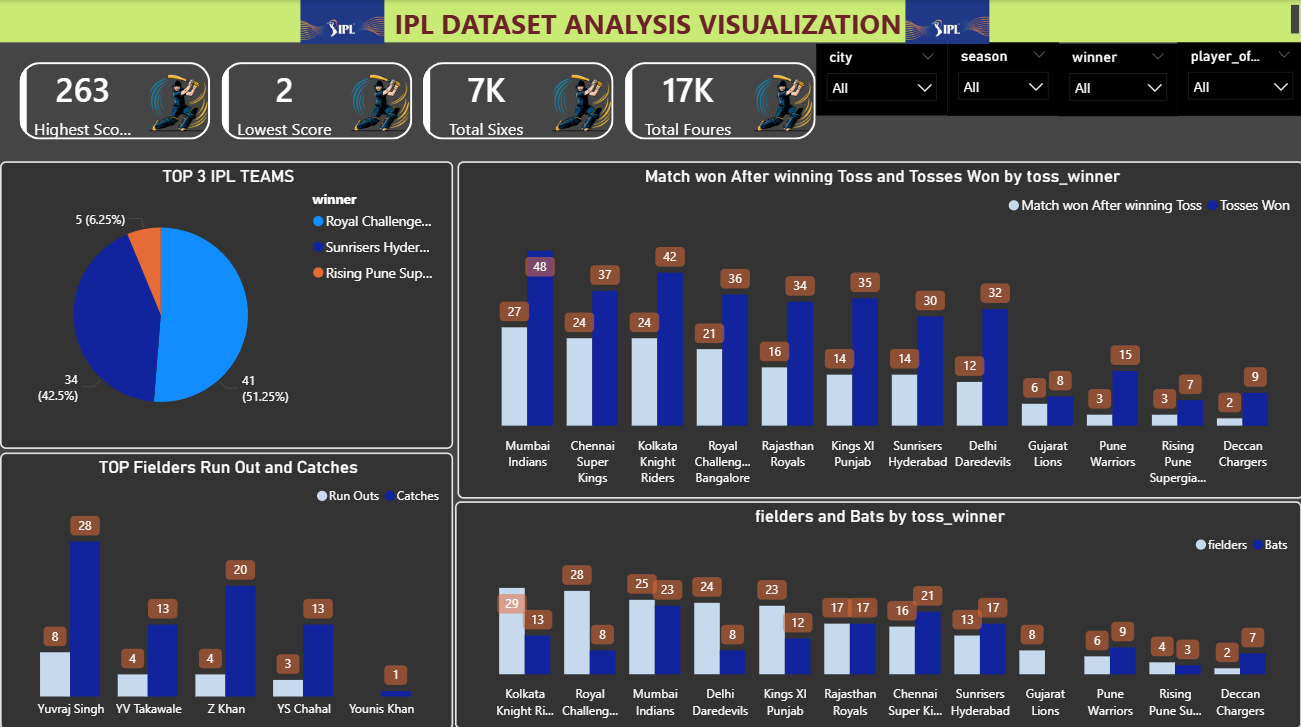

This screenshot's page, from the dashboard's own definition file:
{"tool":"powerbi","page":{"name":"Dashboard 1","canvas":[1280,720],"ordinal":0},"visuals":[{"type":"textbox","box":[0,0,1280,41.2],"z":0},{"type":"cardVisual","fields":{"Data":["deliveries csv.Highest Score","deliveries csv.Lowest Team Score","deliveries csv.Total Sixes","deliveries csv.Total Foures"]},"box":[2.5,43.8,818.8,110],"z":1000},{"type":"clusteredColumnChart","title":"TOP Fielders Run Out and Catches","fields":{"Y":["deliveries csv.Run Outs","deliveries csv.Catches"],"Category":["deliveries csv.fielder"]},"box":[0,443.8,445,273.8],"z":2000},{"type":"clusteredColumnChart","fields":{"Y":["deliveries csv.Won Match After Toss","deliveries csv.tosses won"],"Category":["matches  csv.toss_winner"]},"box":[448.8,158.8,831.2,331.2],"z":3000},{"type":"pieChart","title":"TOP 3 IPL TEAMS","fields":{"Category":["matches  csv.winner"],"Y":["CountNonNull(matches  csv.winner)"]},"box":[0,158.8,445,282.5],"z":4000},{"type":"clusteredColumnChart","fields":{"Category":["matches  csv.toss_winner"],"Y":["matches  csv.fielders","matches  csv.Bats"]},"box":[446.2,492.5,831.2,225],"z":5000},{"type":"slicer","fields":{"Values":["matches  csv.city"]},"box":[801.2,42.5,128.8,70],"z":6000},{"type":"slicer","fields":{"Values":["matches  csv.season"]},"box":[930.1,41.7,109.2,72.4],"z":7000},{"type":"slicer","fields":{"Values":["matches  csv.winner"]},"box":[1039.3,42.9,116.6,71.2],"z":8000},{"type":"slicer","fields":{"Values":["matches  csv.player_of_match"]},"box":[1155.8,41.7,123.9,72.4],"z":9000},{"type":"image","box":[277.3,0,117.1,43.1],"z":9001},{"type":"image","box":[871,0,117.1,43.1],"z":9002}]}

Visuals, with their boxes in screenshot pixels (x1, y1, x2, y2), scaled from the page's 1280x720 canvas onto the 1301x727 screenshot:
textbox: <bbox>0, 0, 1300, 42</bbox>
cardVisual - deliveries csv.Highest Score x deliveries csv.Lowest Team Score: <bbox>3, 44, 835, 155</bbox>
"TOP Fielders Run Out and Catches" clusteredColumnChart: <bbox>0, 448, 452, 725</bbox>
clusteredColumnChart - deliveries csv.Won Match After Toss x deliveries csv.tosses won: <bbox>456, 160, 1300, 495</bbox>
"TOP 3 IPL TEAMS" pieChart: <bbox>0, 160, 452, 446</bbox>
clusteredColumnChart - matches  csv.toss_winner x matches  csv.fielders: <bbox>454, 497, 1298, 724</bbox>
slicer - matches  csv.city: <bbox>814, 43, 945, 114</bbox>
slicer - matches  csv.season: <bbox>945, 42, 1056, 115</bbox>
slicer - matches  csv.winner: <bbox>1056, 43, 1175, 115</bbox>
slicer - matches  csv.player_of_match: <bbox>1175, 42, 1300, 115</bbox>
image: <bbox>282, 0, 401, 44</bbox>
image: <bbox>885, 0, 1004, 44</bbox>
